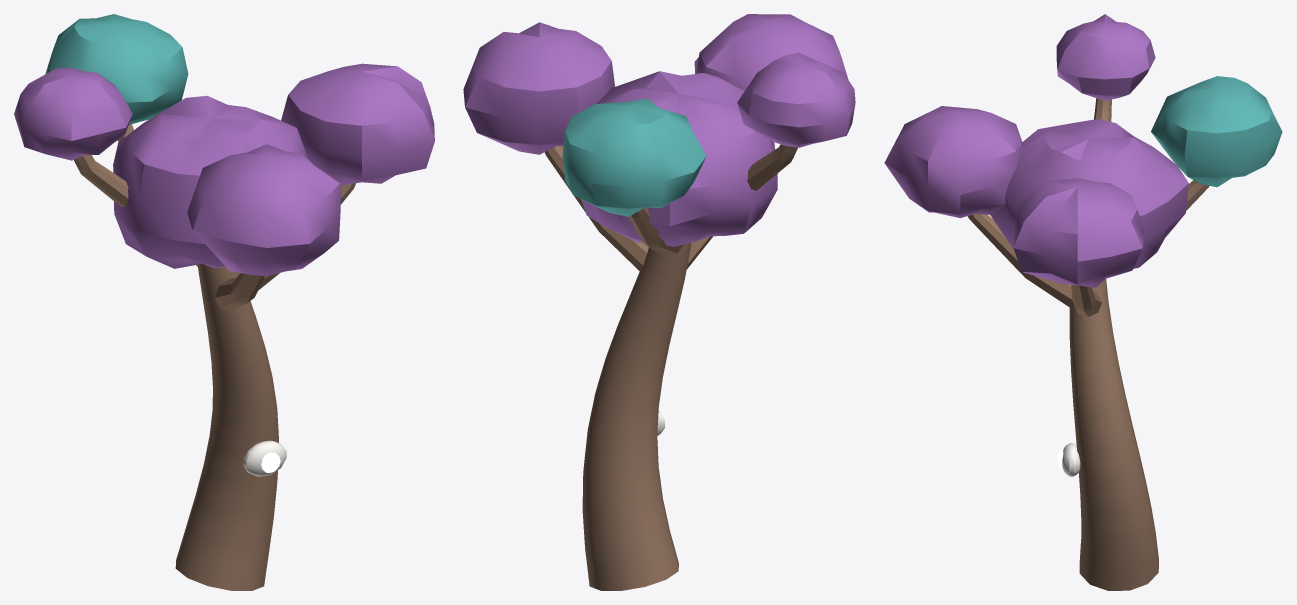
Rendered from TwistedTree_A.fbx.
3 renders of one model, left to right at view 1: azimuth 30°, elevation 25°; view 2: azimuth 150°, elevation 25°; view 3: azimuth 270°, elevation 25°, orthographic. The views are drawn at different scales.
Parts seen in each view (by area): view 1: TwistedTree_A; view 2: TwistedTree_A; view 3: TwistedTree_A.
Part boxes in pixels (<box>): TwistedTree_A: <box>14,14,434,590</box>; TwistedTree_A: <box>463,14,855,590</box>; TwistedTree_A: <box>884,14,1282,590</box>.
Bounding box in the file's own units: 10.2 × 13.68 × 10.2.
